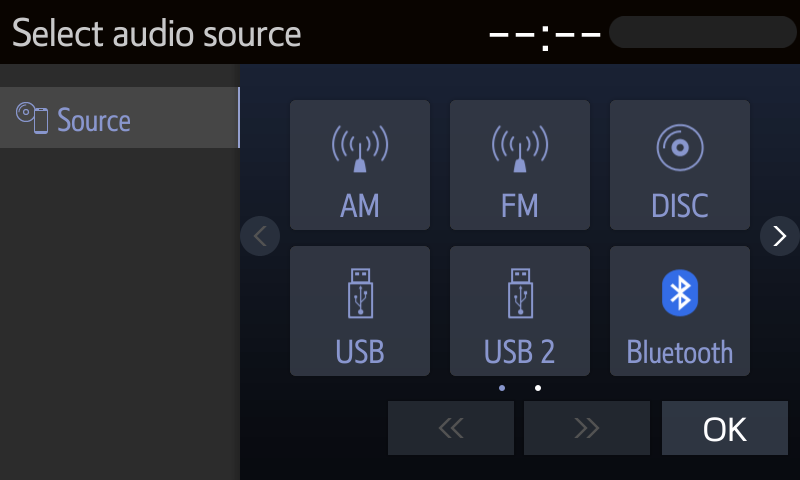touchPart: (289, 245, 430, 377), (449, 100, 590, 231), (610, 246, 750, 377), (289, 101, 430, 230), (449, 248, 589, 377), (611, 100, 750, 228), (1, 87, 237, 145), (662, 401, 790, 453), (756, 217, 800, 257)
untouchPart: (6, 11, 304, 54), (608, 13, 798, 53), (523, 402, 651, 453), (388, 401, 514, 452), (478, 17, 607, 57), (240, 218, 282, 258)
